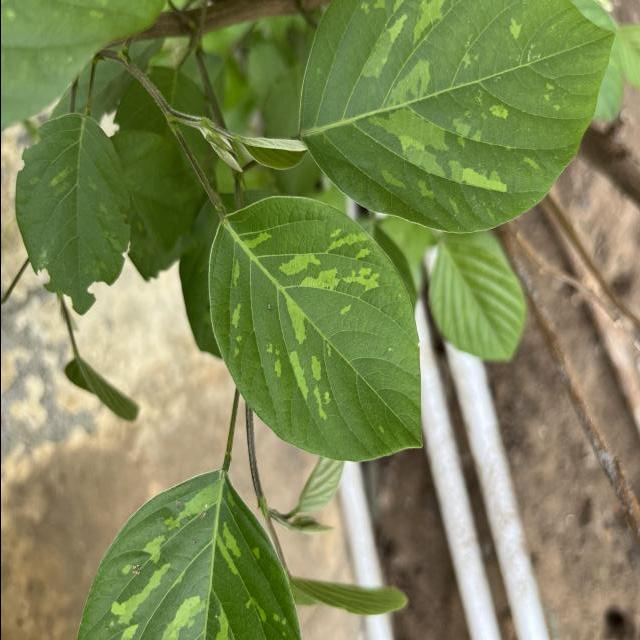Desmodium gangeticum: (294, 0, 617, 237), (204, 192, 426, 466)
